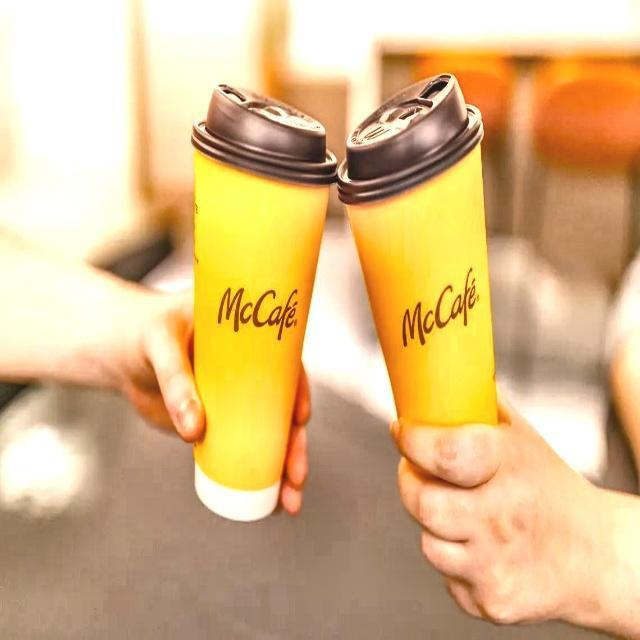paper_cup: (338, 71, 497, 492), (189, 74, 333, 528)
